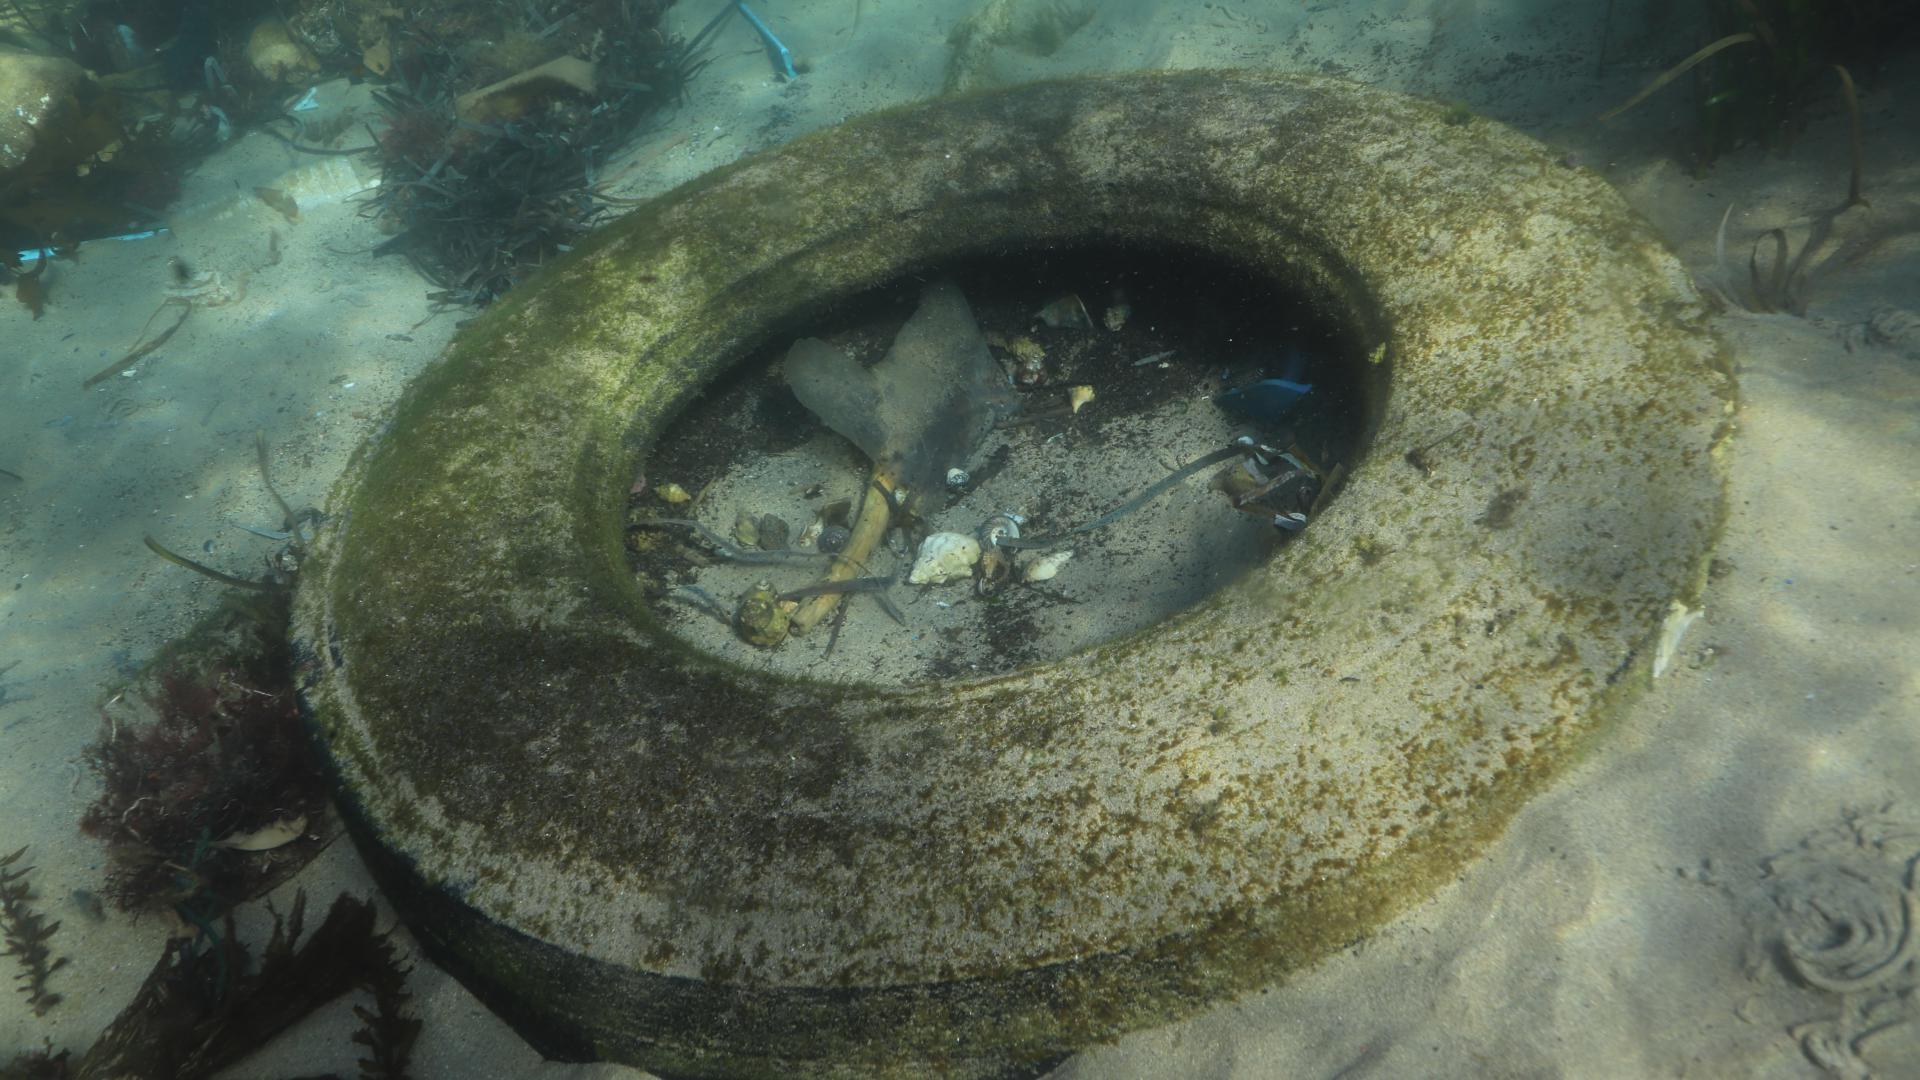tire: (286, 69, 1733, 1080)
